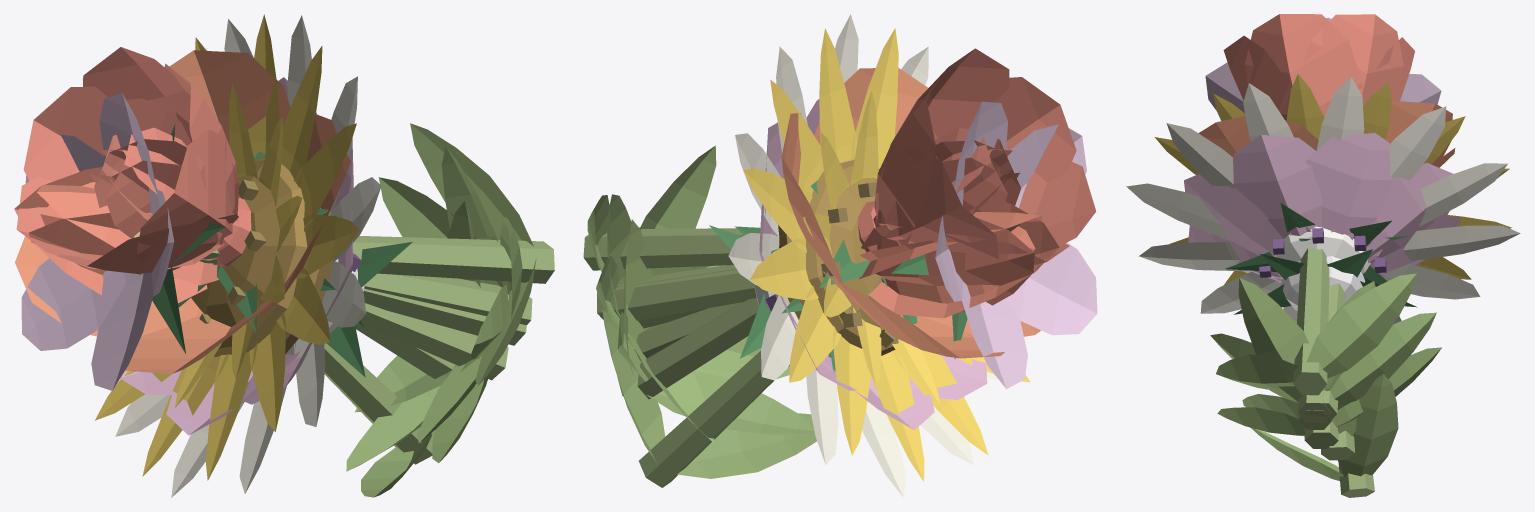
File: flowers_botanical.glb
The picture shows the model from 3 angles, left to right: view 1: azimuth 30°, elevation 25°; view 2: azimuth 150°, elevation 25°; view 3: azimuth 270°, elevation 25°; orthographic projection. The views are drawn at different scales.
Parts seen in each view (by area): view 1: sun, rose, fmn, daisy, poppy, tul, anem; view 2: rose, sun, poppy, fmn, daisy, tul, anem; view 3: daisy, anem, rose, fmn, poppy, sun, tul.
Boxes of the visible parts, x1,y1,x2,y2 form: sun: (95,14,526,480); rose: (16,47,480,471); fmn: (21,93,554,390); daisy: (115,15,532,497); poppy: (15,50,433,497); tul: (14,167,508,359); anem: (120,77,508,462); rose: (617,48,1096,434); sun: (607,28,1030,481); poppy: (602,68,1040,487); fmn: (583,101,1097,388); daisy: (618,14,998,497); tul: (596,182,1059,345); anem: (617,99,987,429); daisy: (1126,77,1520,423); anem: (1184,133,1460,448); rose: (1223,14,1414,460); fmn: (1205,17,1441,395); poppy: (1198,101,1455,497); sun: (1154,74,1511,429); tul: (1210,283,1436,423).
Size of the model in its own units: 0.7548 by 0.689 by 0.6483.
